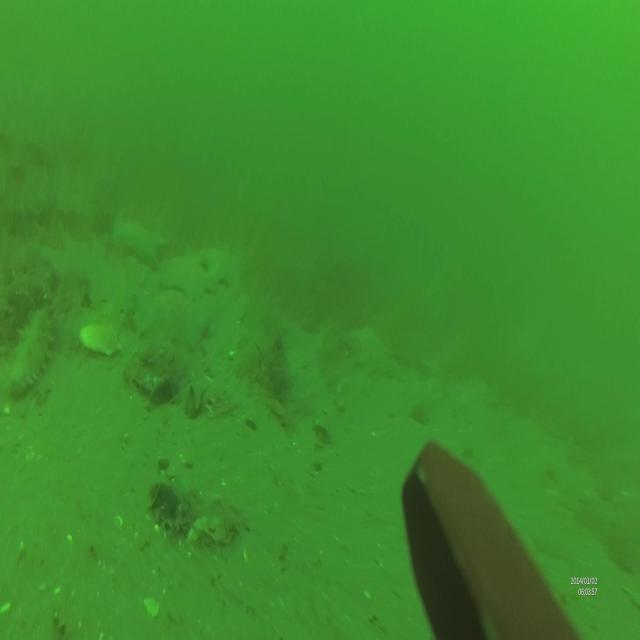holothurian: (11, 303, 51, 388)
scallop: (78, 326, 120, 360)
starfish: (100, 214, 161, 266)
